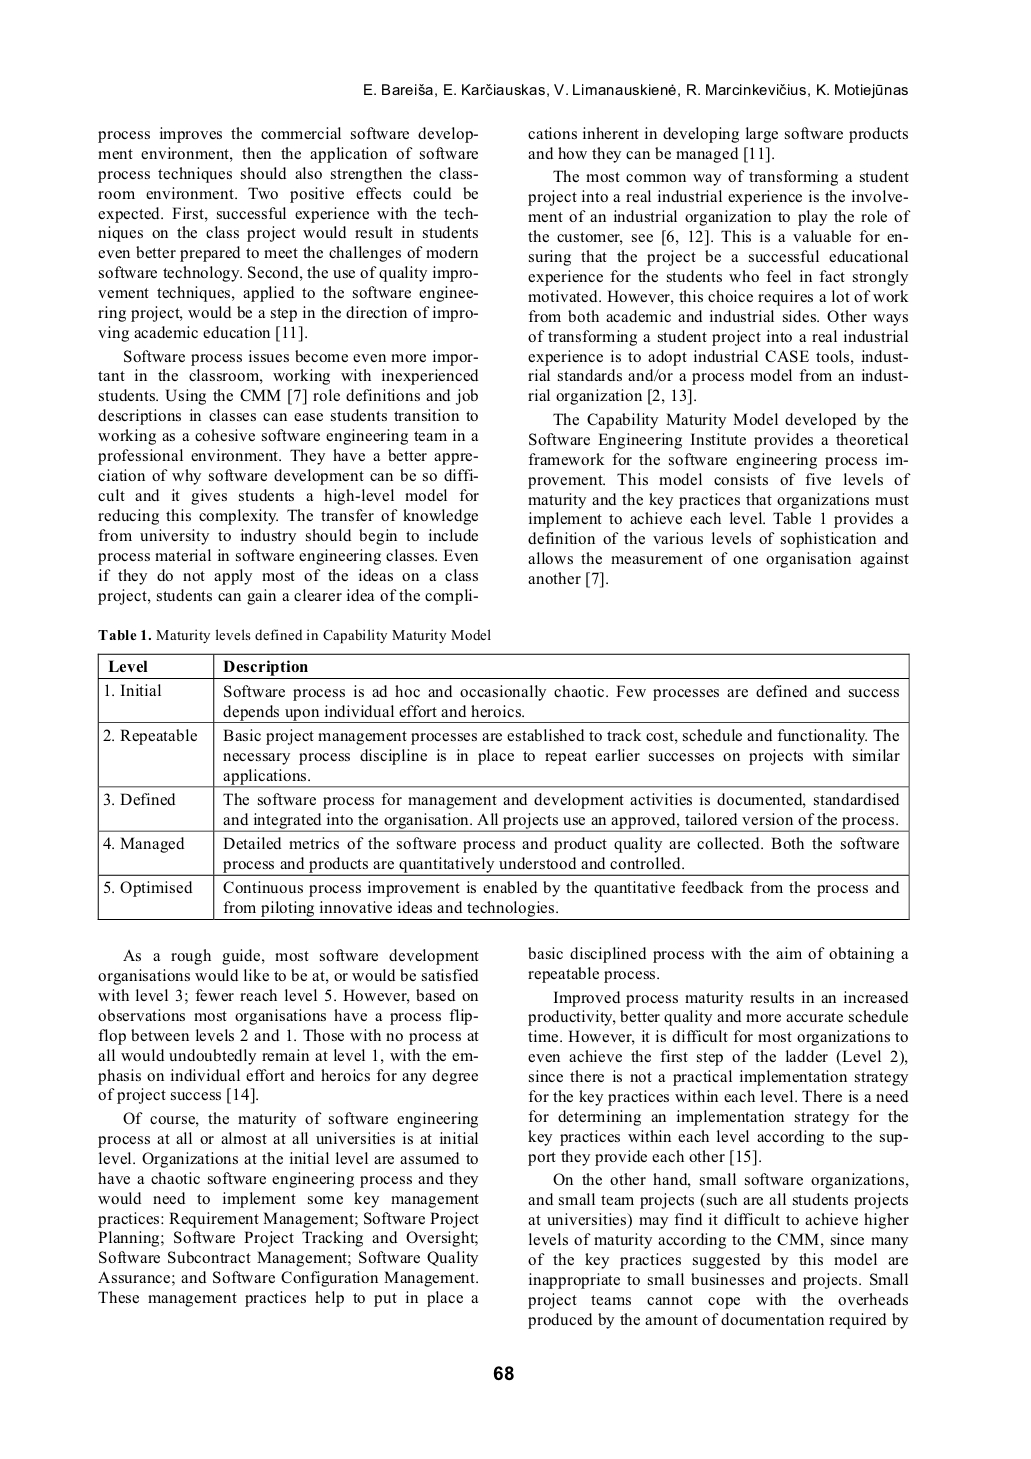Table: (97, 653, 909, 920)
